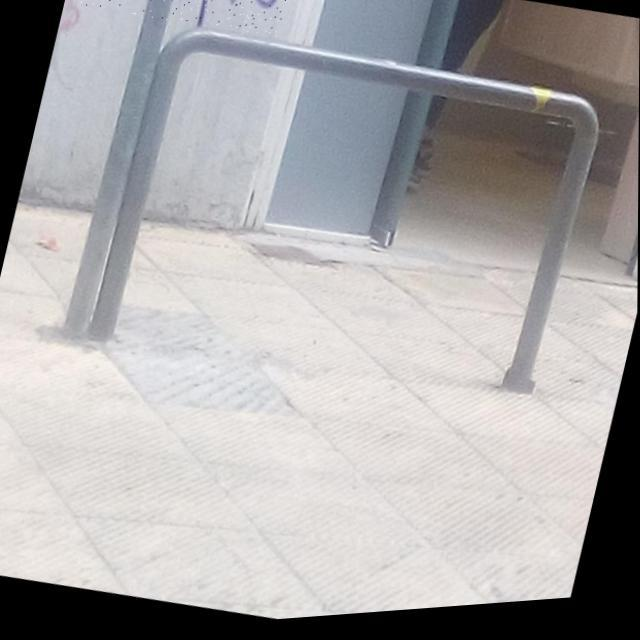-: (63, 0, 293, 53)
